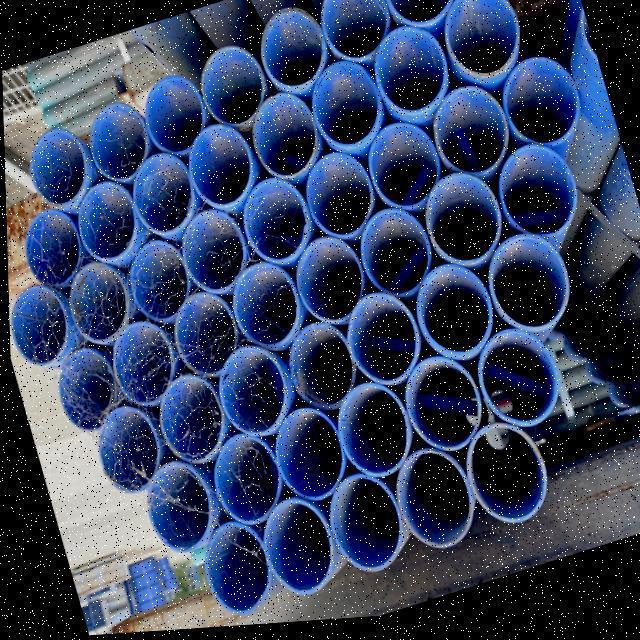pipe: (460, 431, 546, 531), (388, 454, 472, 555), (474, 333, 556, 435), (482, 239, 568, 336), (319, 477, 403, 574), (491, 149, 573, 247), (257, 499, 336, 599), (351, 126, 442, 212), (189, 523, 270, 618), (268, 407, 346, 502), (335, 384, 411, 481), (413, 270, 493, 362), (418, 178, 498, 270), (495, 65, 574, 155), (404, 363, 481, 455), (430, 93, 508, 182), (351, 213, 430, 300), (346, 298, 420, 390), (369, 32, 444, 122), (172, 290, 246, 381), (213, 346, 287, 436), (139, 462, 209, 556), (219, 267, 296, 351), (285, 326, 357, 415), (438, 0, 515, 81), (305, 64, 377, 150), (287, 236, 358, 323), (235, 178, 306, 265), (155, 375, 222, 467), (210, 437, 280, 525), (303, 152, 372, 241), (251, 95, 318, 182), (93, 405, 157, 496), (175, 211, 244, 295), (184, 124, 249, 211), (59, 261, 126, 345), (108, 323, 172, 409), (125, 153, 188, 239), (259, 11, 325, 93), (54, 346, 117, 431), (68, 178, 131, 262), (199, 49, 264, 128), (124, 239, 187, 320), (7, 280, 65, 364), (21, 208, 79, 292), (86, 101, 145, 183), (142, 76, 201, 158), (318, 0, 390, 62), (26, 128, 82, 207), (382, 0, 452, 32)
